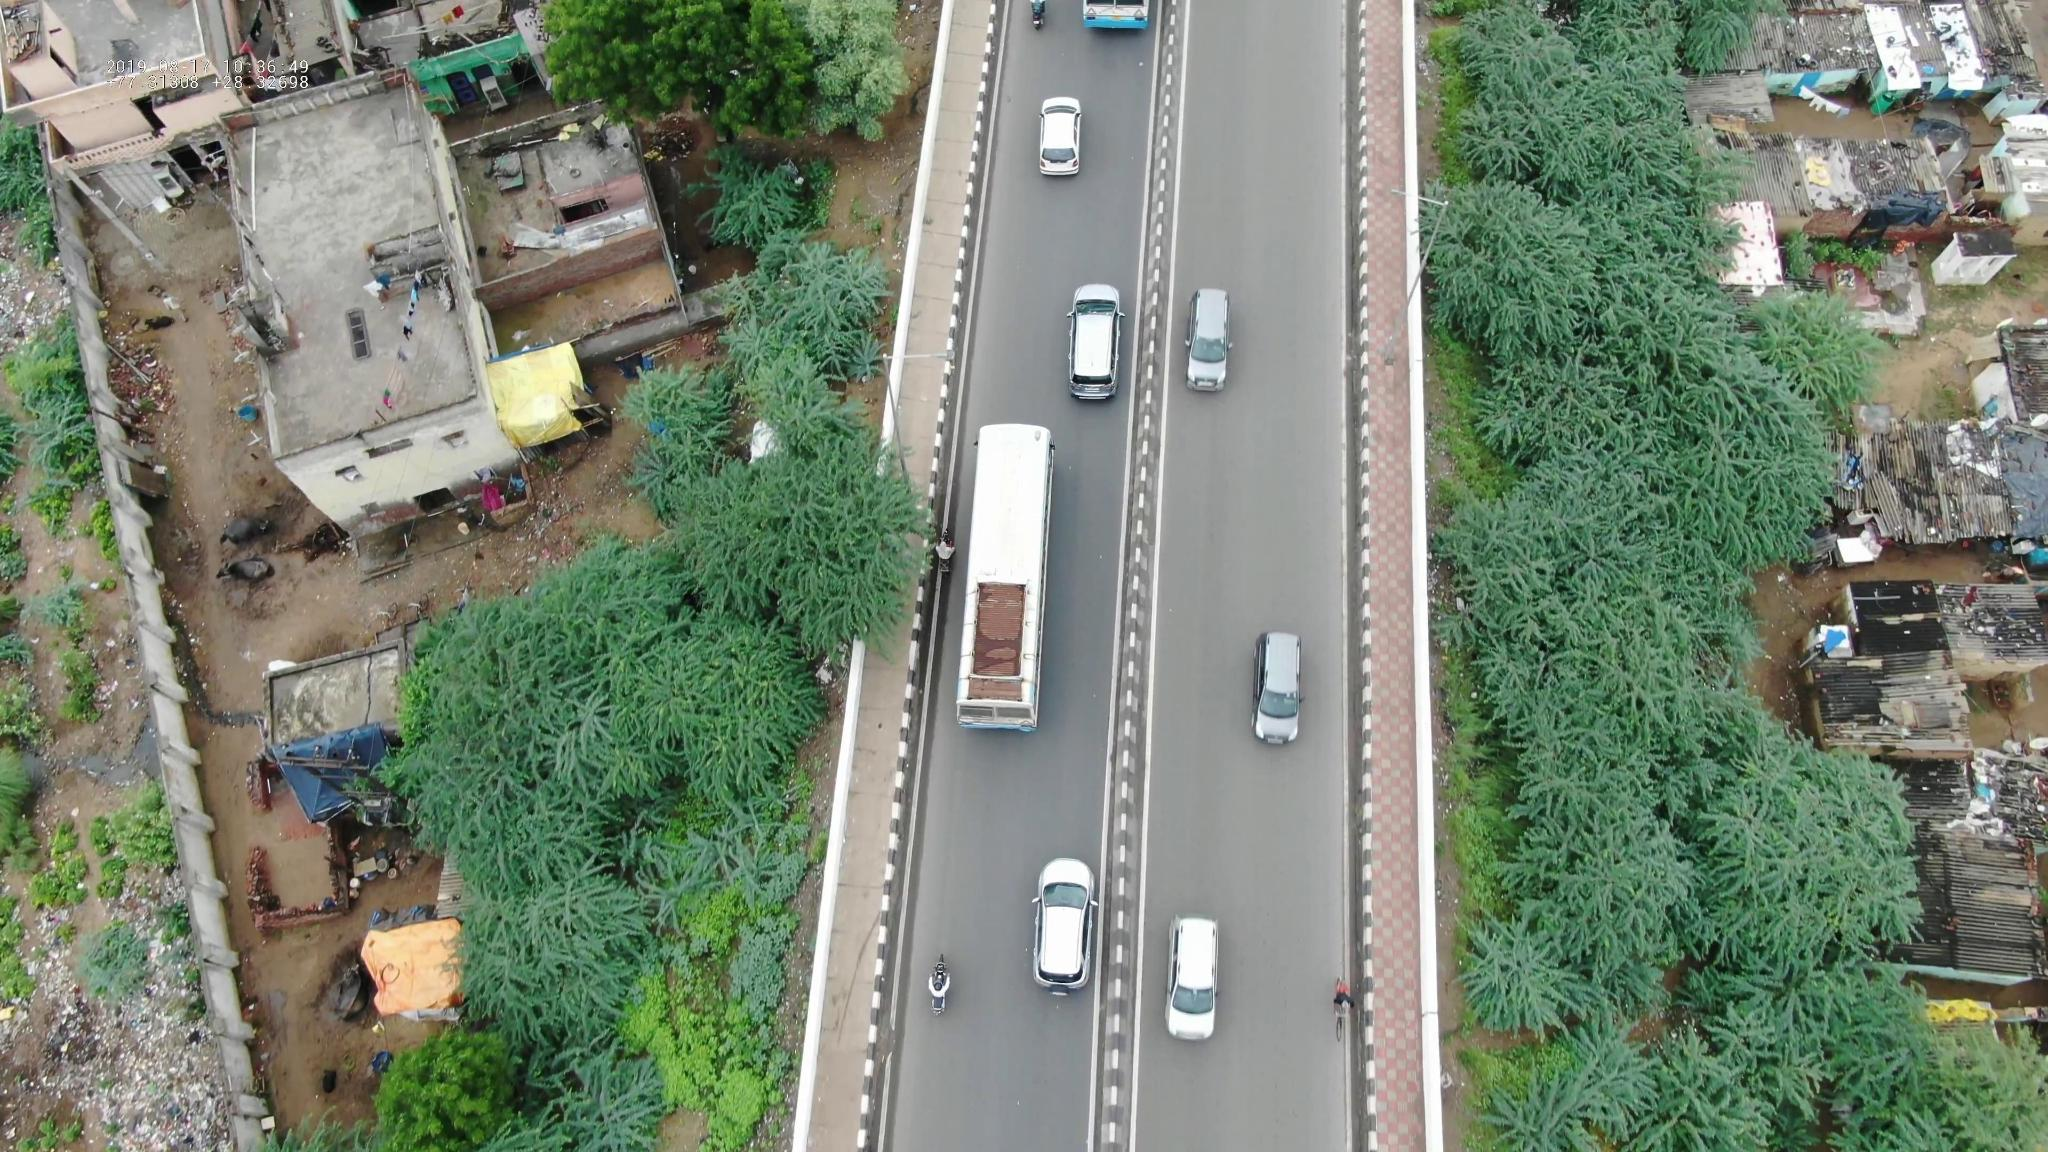Road_side_garbage: (32, 949, 219, 1152)
